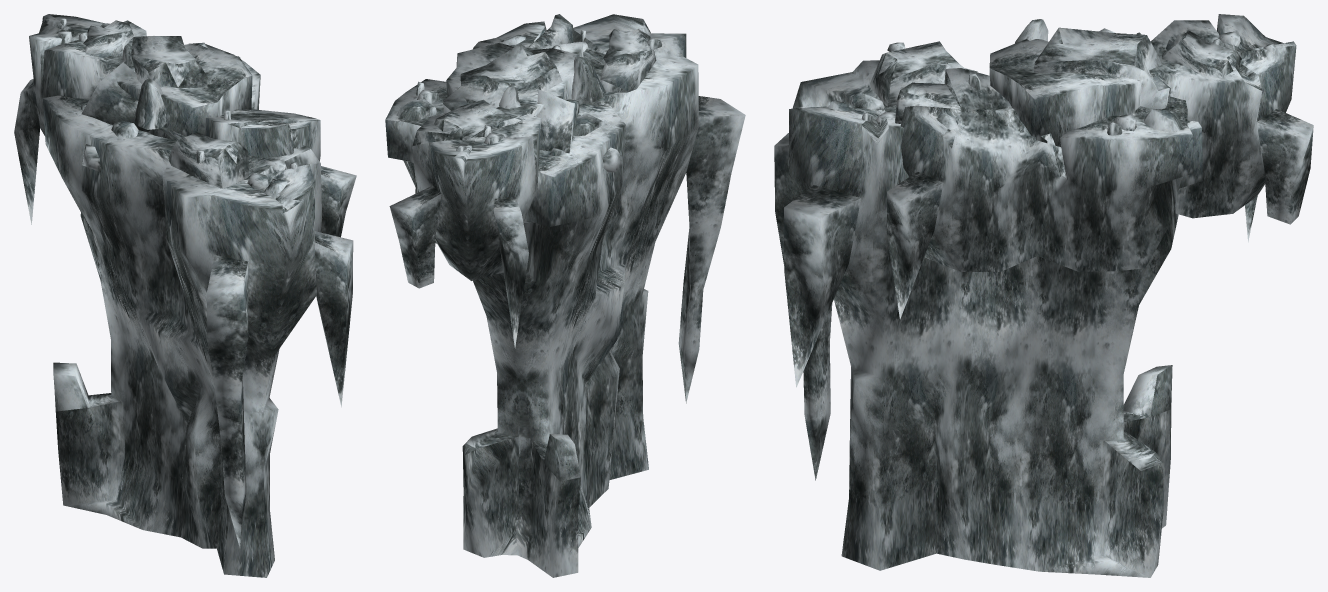
The model's file is S_Rock_White046.FBX.
3 renders of one model, left to right at view 1: azimuth 30°, elevation 25°; view 2: azimuth 150°, elevation 25°; view 3: azimuth 270°, elevation 25°, orthographic. The views are drawn at different scales.
Visible parts, largest first — view 1: S_Rock_White046; view 2: S_Rock_White046; view 3: S_Rock_White046.
Part boxes in pixels (x1,y1,x2,y2): S_Rock_White046: (14, 14, 356, 577); S_Rock_White046: (385, 14, 745, 577); S_Rock_White046: (774, 14, 1313, 577).
Bounding box in the file's own units: 620 × 1247 × 1348.
